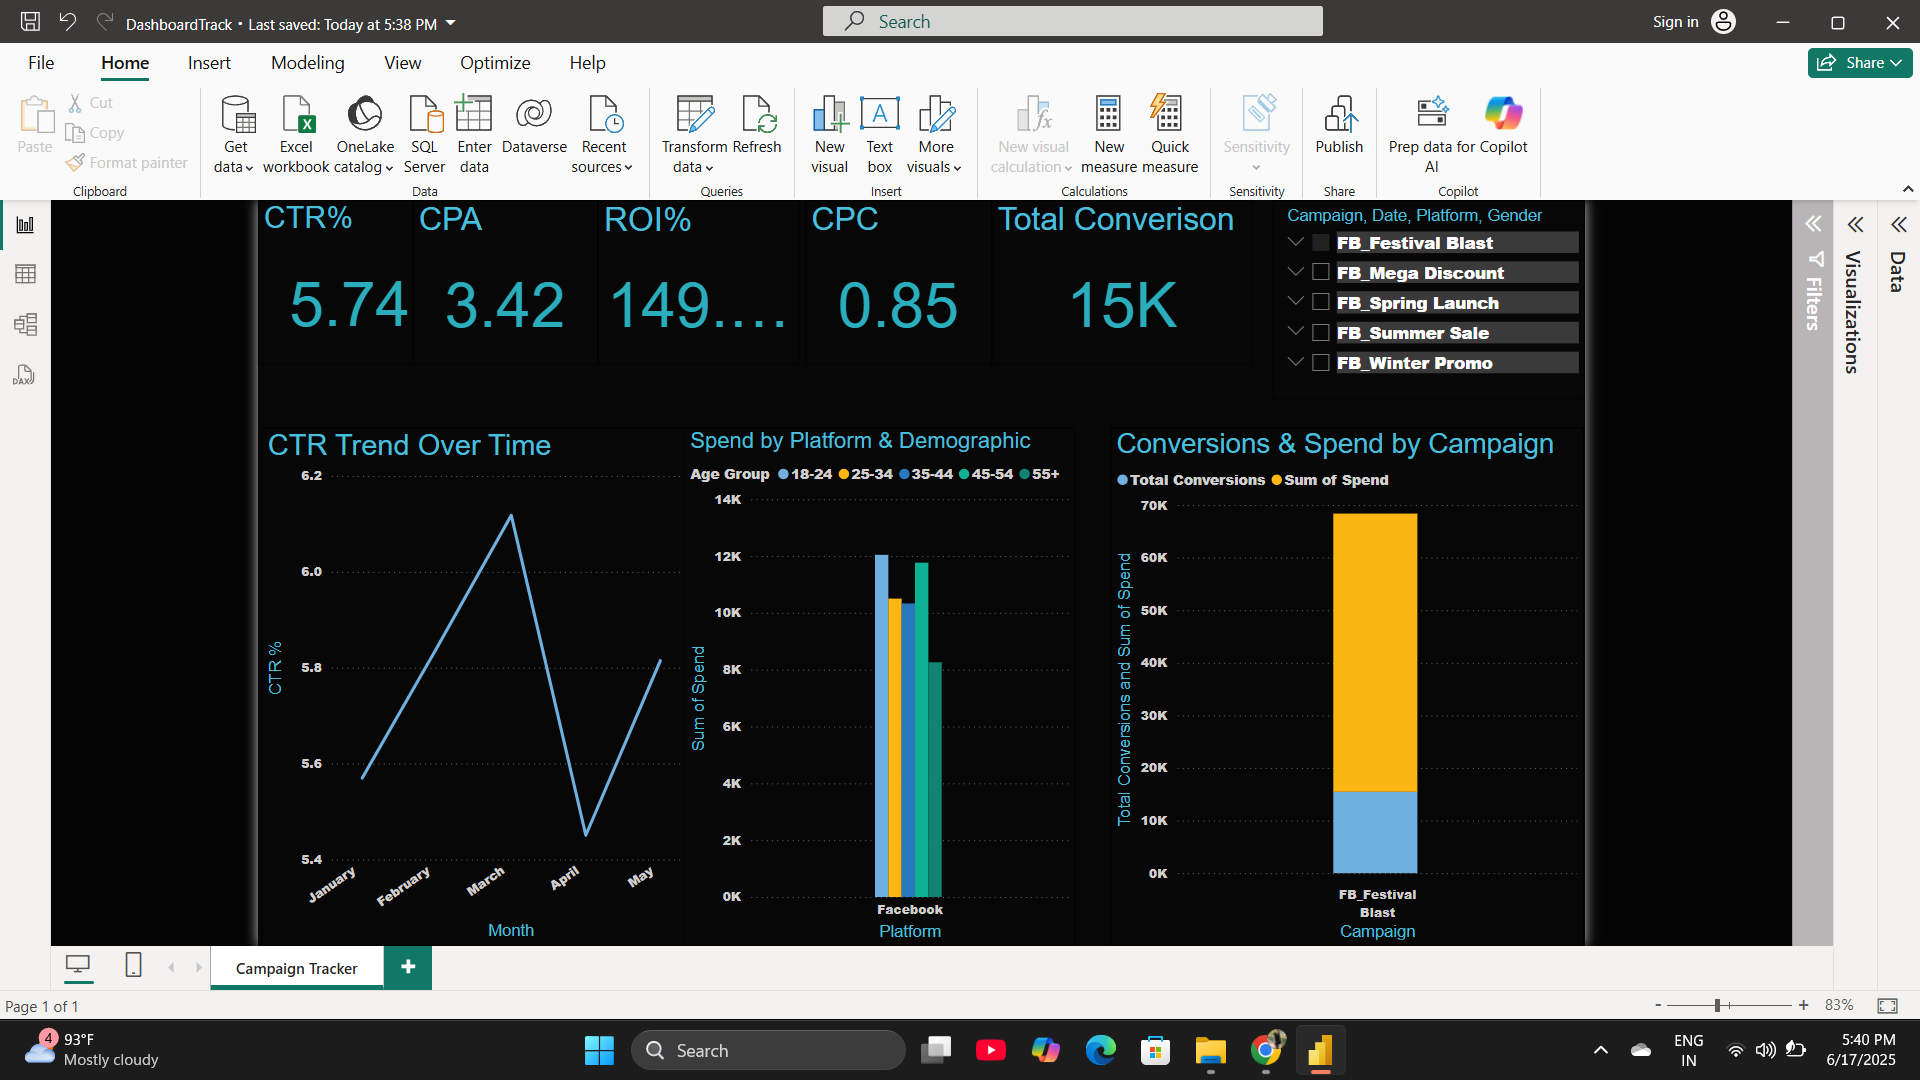

This screenshot's page, from the dashboard's own definition file:
{"tool":"powerbi","page":{"name":"Campaign Tracker","canvas":[1280,720],"ordinal":0},"visuals":[{"type":"card","title":"       CTR%","fields":{"Values":["Sheet1.CTR %"]},"box":[0,0,177.8,159.3],"z":0},{"type":"card","title":"CPC","fields":{"Values":["Sheet1.CPC"]},"box":[528.3,0,179.8,159.2],"z":1000},{"type":"card","title":"CPA","fields":{"Values":["Sheet1.CPA"]},"box":[149.6,0,178.4,159.2],"z":2000},{"type":"card","title":"ROI%","fields":{"Values":["Sheet1.ROI %"]},"box":[328,0,194.9,159.2],"z":3000},{"type":"card","title":"Total Converison","fields":{"Values":["Sheet1.Total Conversions"]},"box":[708,0,251.9,159],"z":4000},{"type":"lineStackedColumnComboChart","title":"Conversions & Spend by Campaign","fields":{"Category":["Sheet1.Campaign"],"Y":["Sheet1.Total Conversions","Sum(Sheet1.Spend)"]},"box":[823.3,219.6,456.9,500.9],"z":5000},{"type":"lineChart","title":"CTR Trend Over Time","fields":{"Category":["Sheet1.Date.Variation.Date Hierarchy.Month"],"Y":["Sheet1.CTR %"]},"box":[4.1,219.6,419.9,500.9],"z":6000},{"type":"clusteredColumnChart","title":"Spend by Platform & Demographic","fields":{"Category":["Sheet1.Platform"],"Y":["Sum(Sheet1.Spend)"],"Series":["Sheet1.Age Group"]},"box":[411.7,219.6,377.4,500.9],"z":7000},{"type":"slicer","fields":{"Values":["Sheet1.Campaign","Sheet1.Date","Sheet1.Platform","Sheet1.Gender"]},"box":[979.5,0,300.8,192],"z":8000}]}

Visuals, with their boxes on the page's 1280x720 design canvas (x1, y1, x2, y2). These are canvas units, not pixel positions in the 1920x1080 screenshot, which may show the page scaled, cropped or inside an application window:
"       CTR%" card: [x1=0, y1=0, x2=178, y2=159]
"CPC" card: [x1=528, y1=0, x2=708, y2=159]
"CPA" card: [x1=150, y1=0, x2=328, y2=159]
"ROI%" card: [x1=328, y1=0, x2=523, y2=159]
"Total Converison" card: [x1=708, y1=0, x2=960, y2=159]
"Conversions & Spend by Campaign" lineStackedColumnComboChart: [x1=823, y1=220, x2=1280, y2=720]
"CTR Trend Over Time" lineChart: [x1=4, y1=220, x2=424, y2=720]
"Spend by Platform & Demographic" clusteredColumnChart: [x1=412, y1=220, x2=789, y2=720]
slicer - Sheet1.Campaign x Sheet1.Date: [x1=980, y1=0, x2=1280, y2=192]
